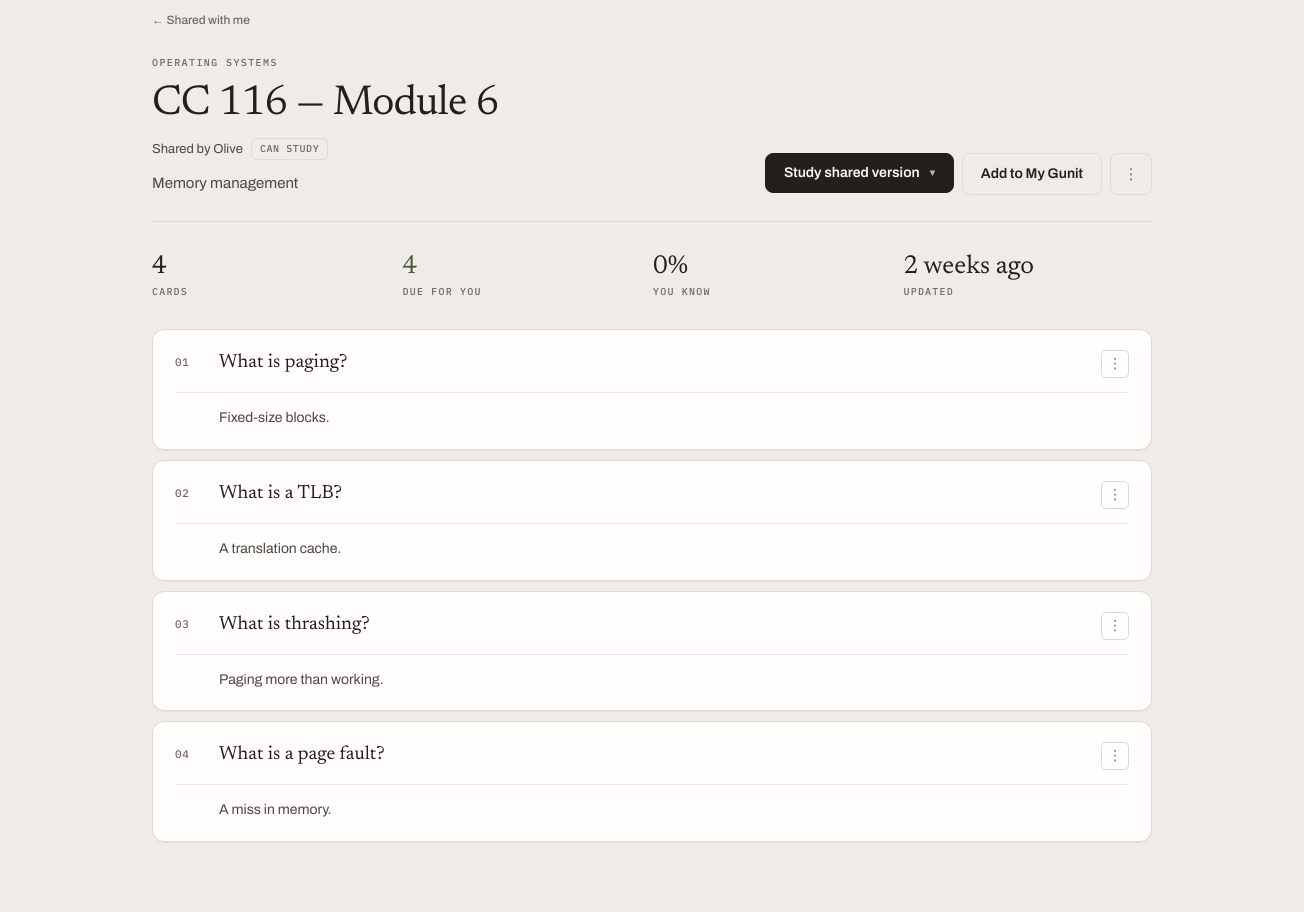
Test case: studying the shared version › joins when a signed-in reader starts studying, so their progress can be kept
The width and height of the screenshot is (1304, 912).
Click the button "Study shared version ▾" at (859, 173), box [765,153,954,193]
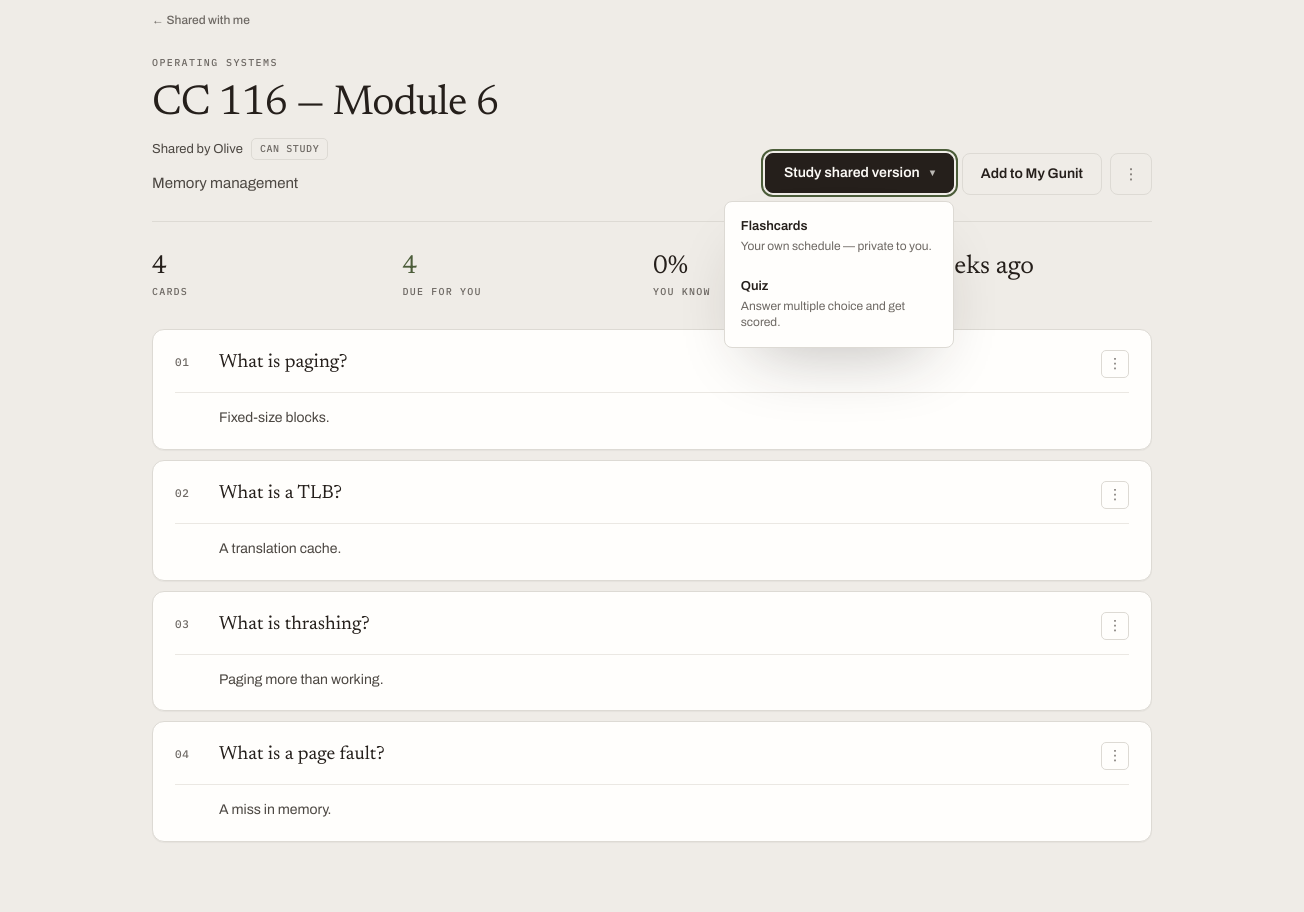
Click the button "Flashcards Your own schedule — private to you." at (839, 236), box [730,207,948,265]
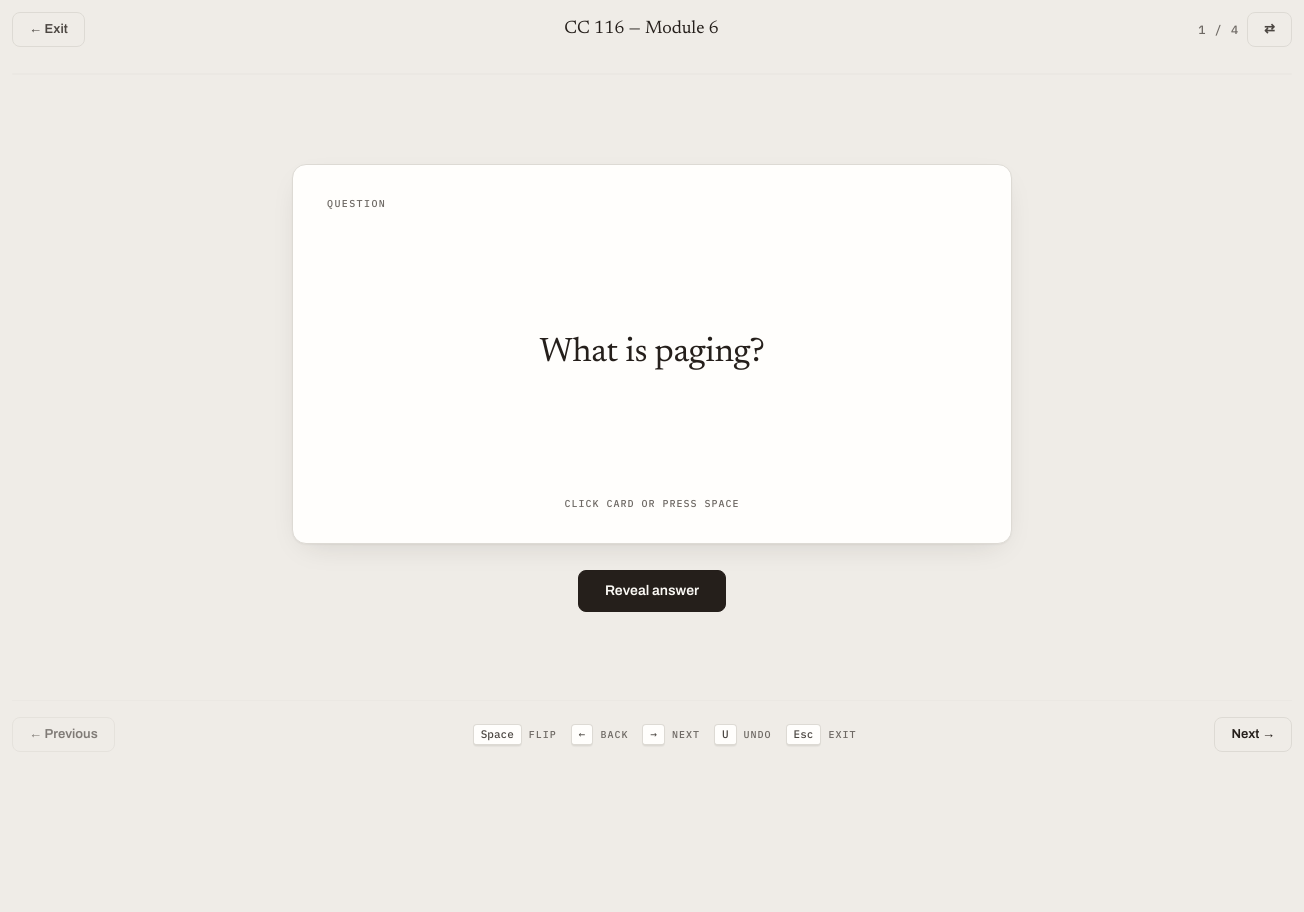
Check: the button "Reveal answer" is shown, box [578,570,726,612]
